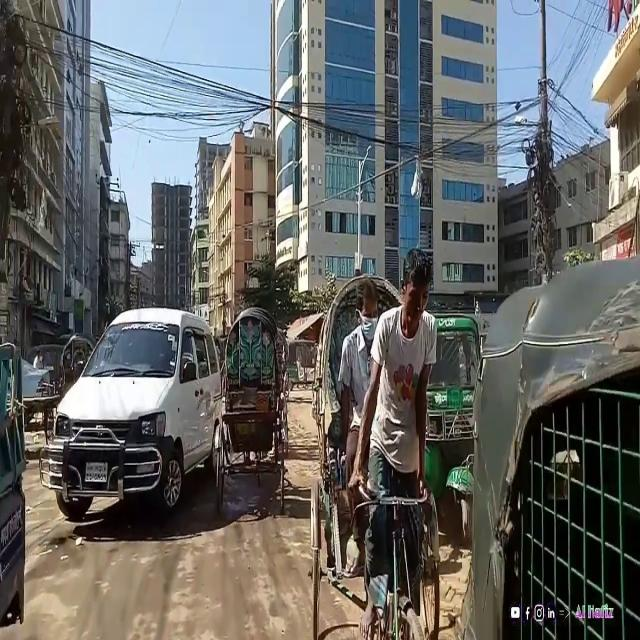white: (52, 298, 226, 529)
